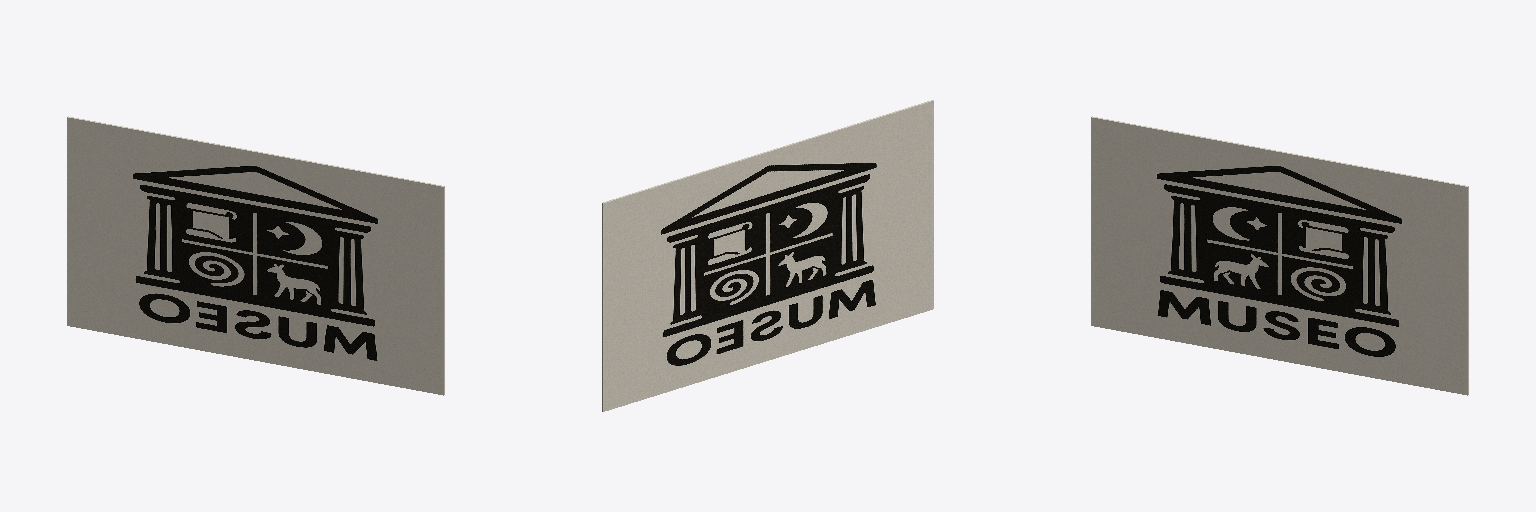
3 renders of one model, left to right at view 1: azimuth 90°, elevation 25°; view 2: azimuth 150°, elevation 25°; view 3: azimuth 270°, elevation 25°, orthographic.
Parts seen in each view (by area): view 1: Juventus_-_FC; view 2: Juventus_-_FC; view 3: Juventus_-_FC.
Boxes of the visible parts, box(x1,y1,x2,y2) form: Juventus_-_FC: box(67, 116, 444, 395); Juventus_-_FC: box(602, 100, 933, 411); Juventus_-_FC: box(1091, 116, 1468, 395).
Bounding box in the file's own units: 8.06 × 11.11 × 18.22.
Materials: 1 (1 with a texture image).